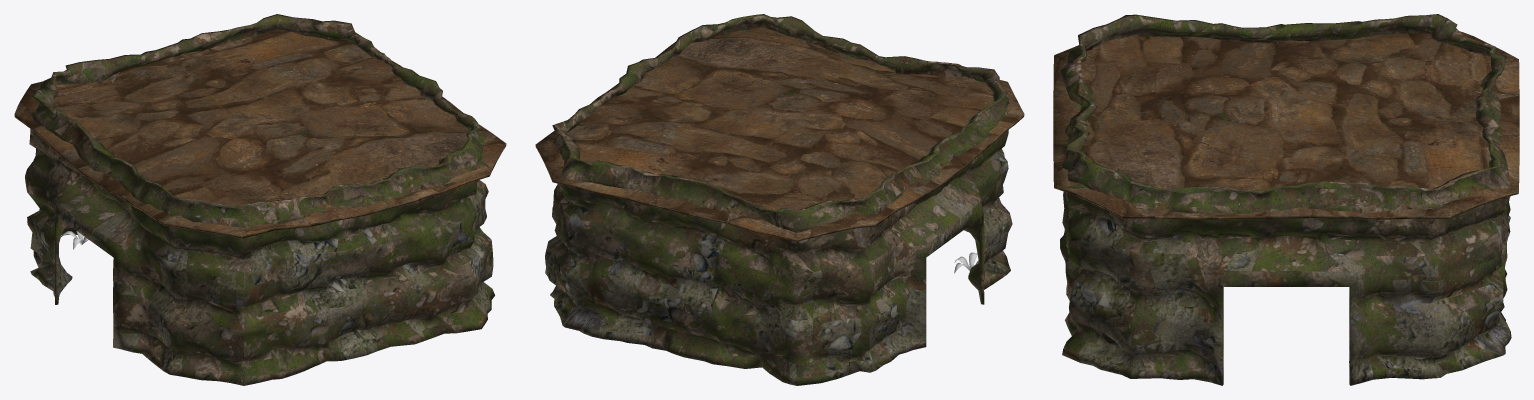
File: impact_lining_organic.obj
3 views of the same model, side by side, from view 1: azimuth 30°, elevation 25°; view 2: azimuth 150°, elevation 25°; view 3: azimuth 270°, elevation 25° (orthographic). The views are drawn at different scales.
Visible parts, largest first — view 1: impact_lining_Rock_skin; view 2: impact_lining_Rock_skin; view 3: impact_lining_Rock_skin.
Boxes of the visible parts, x1=… form: impact_lining_Rock_skin: x1=14, y1=14, x2=506, y2=385; impact_lining_Rock_skin: x1=535, y1=14, x2=1024, y2=385; impact_lining_Rock_skin: x1=1053, y1=14, x2=1519, y2=385.
Bounding box in the file's own units: 920 × 438 × 959.
